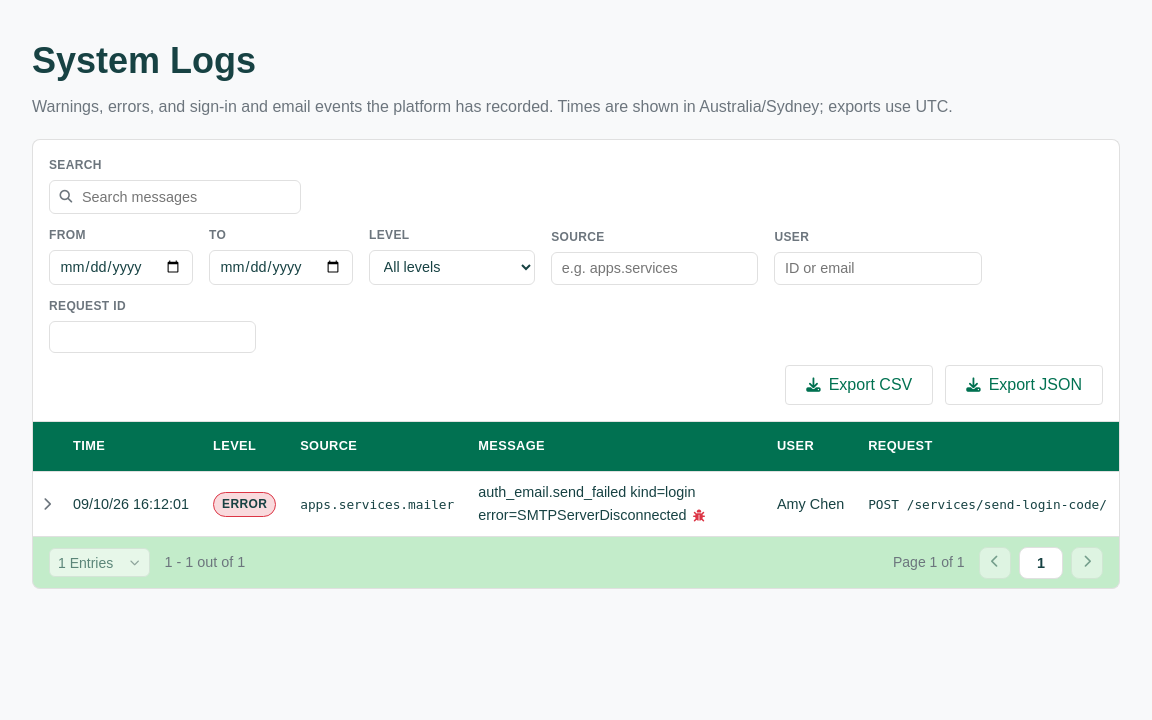
AdminSystemLogsPage › says when a date’s year is out of range, without asking the server
The width and height of the screenshot is (1152, 720).
Type "0002-10-15" into the date field with id "log-from-filter" at (121, 267), box [49,250,193,285]
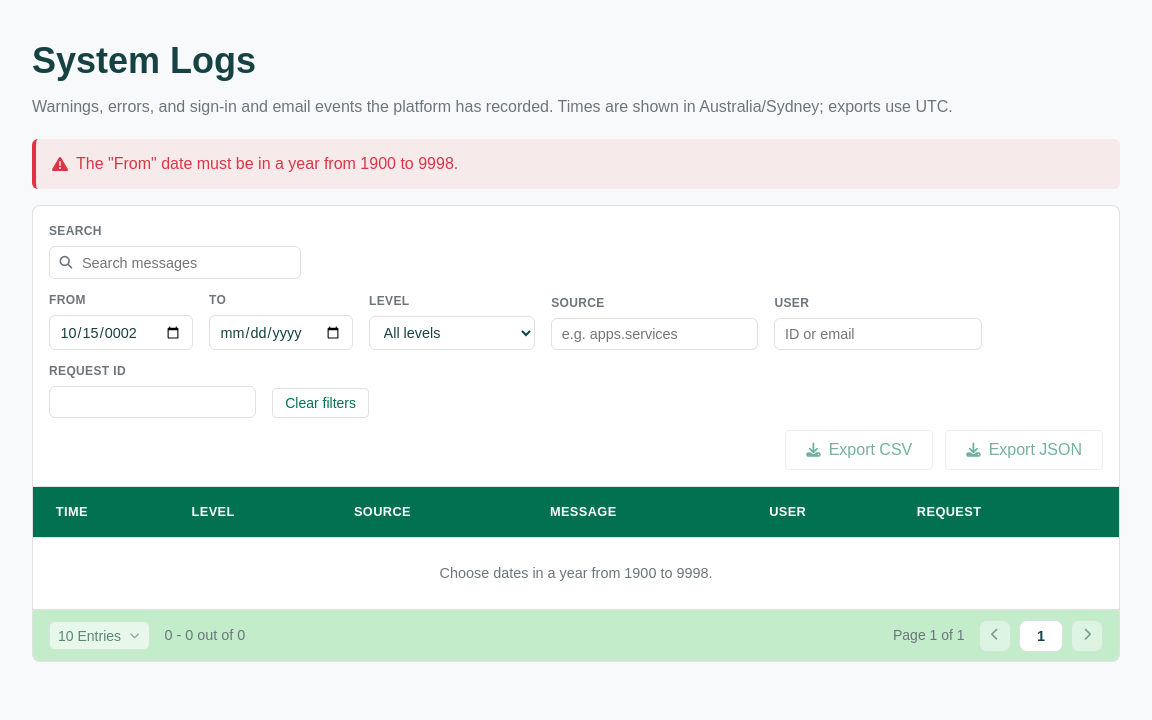
Expected: the message "The \"From\" date must be in a year from 1900 to 9998." reads "The \"From\" date must be in a year from 1900 to 9998.", [76,155,458,172]
Expected: the cell with class "data-table-empty" reads "Choose dates in a year from 1900 to 9998.", [440,565,712,581]
Expected: the button "Export CSV" is disabled, [785,430,933,470]
Type "0020-10-15" into the date field with id "log-from-filter" at (121, 333), box [49,315,193,350]
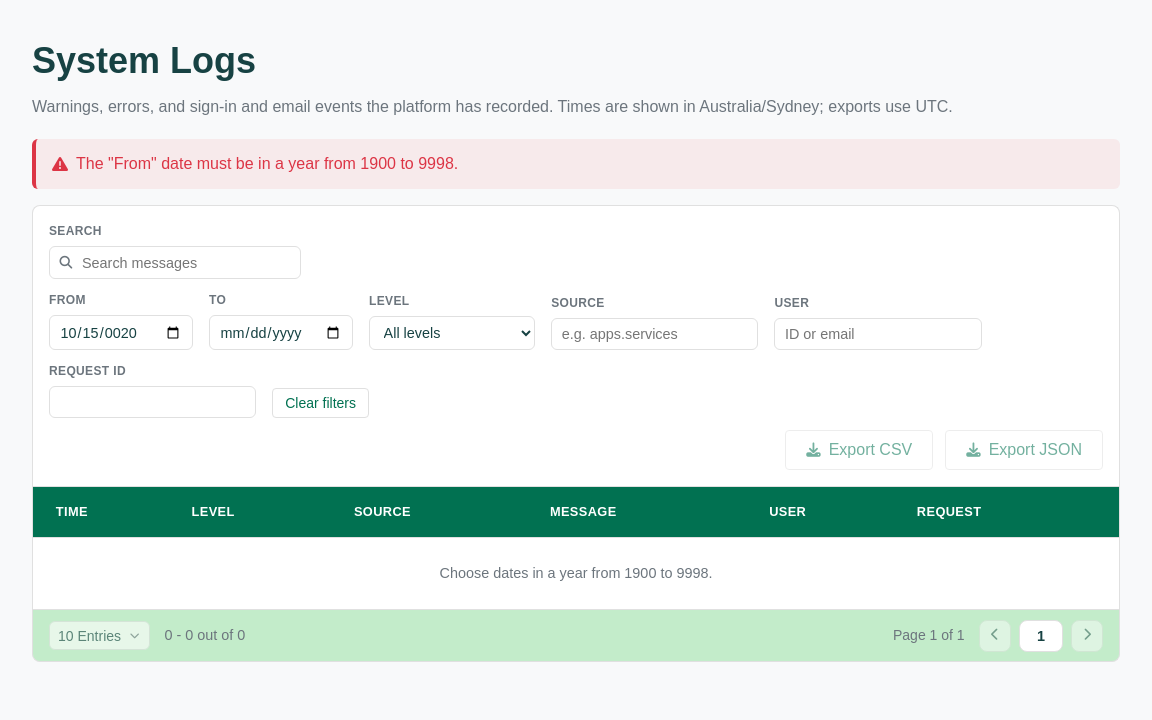
Expected: the message "The \"From\" date must be in a year from 1900 to 9998." reads "The \"From\" date must be in a year from 1900 to 9998.", [76,155,458,172]
Expected: the cell with class "data-table-empty" reads "Choose dates in a year from 1900 to 9998.", [440,565,712,581]
Expected: the button "Export CSV" is disabled, [785,430,933,470]
Type "0202-10-15" into the date field with id "log-from-filter" at (121, 333), box [49,315,193,350]
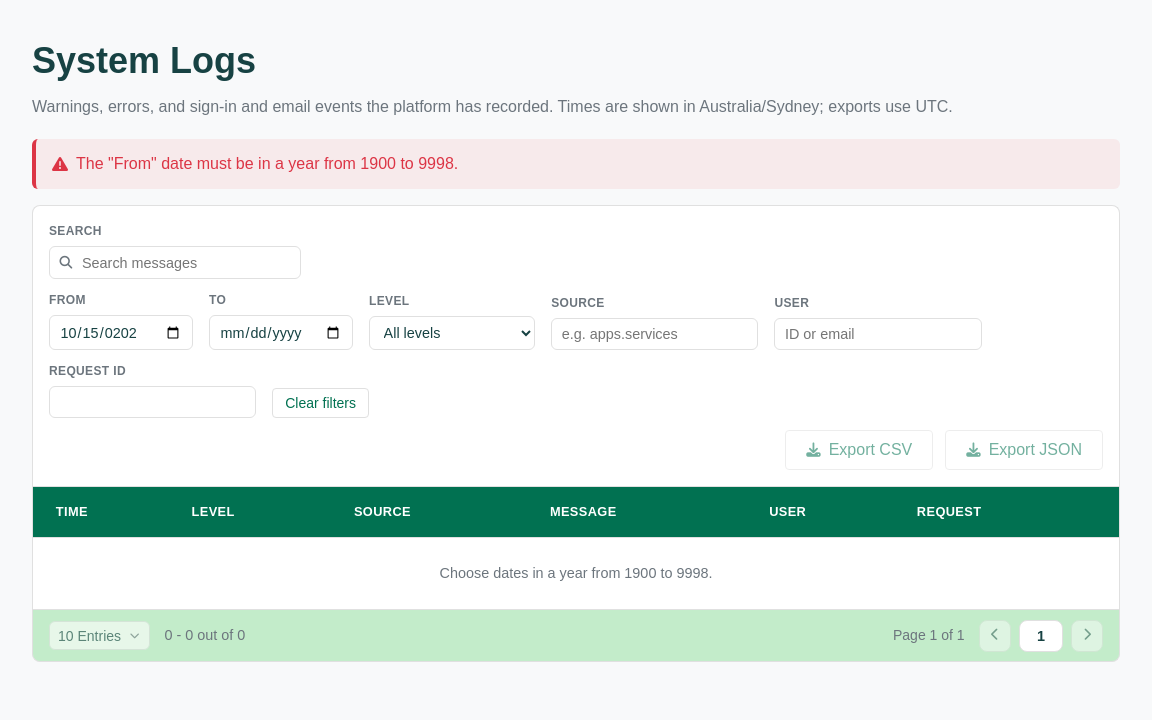
Expected: the message "The \"From\" date must be in a year from 1900 to 9998." reads "The \"From\" date must be in a year from 1900 to 9998.", [76,155,458,172]
Expected: the cell with class "data-table-empty" reads "Choose dates in a year from 1900 to 9998.", [440,565,712,581]
Expected: the button "Export CSV" is disabled, [785,430,933,470]
Type "2026-10-15" into the date field with id "log-from-filter" at (121, 333), box [49,315,193,350]
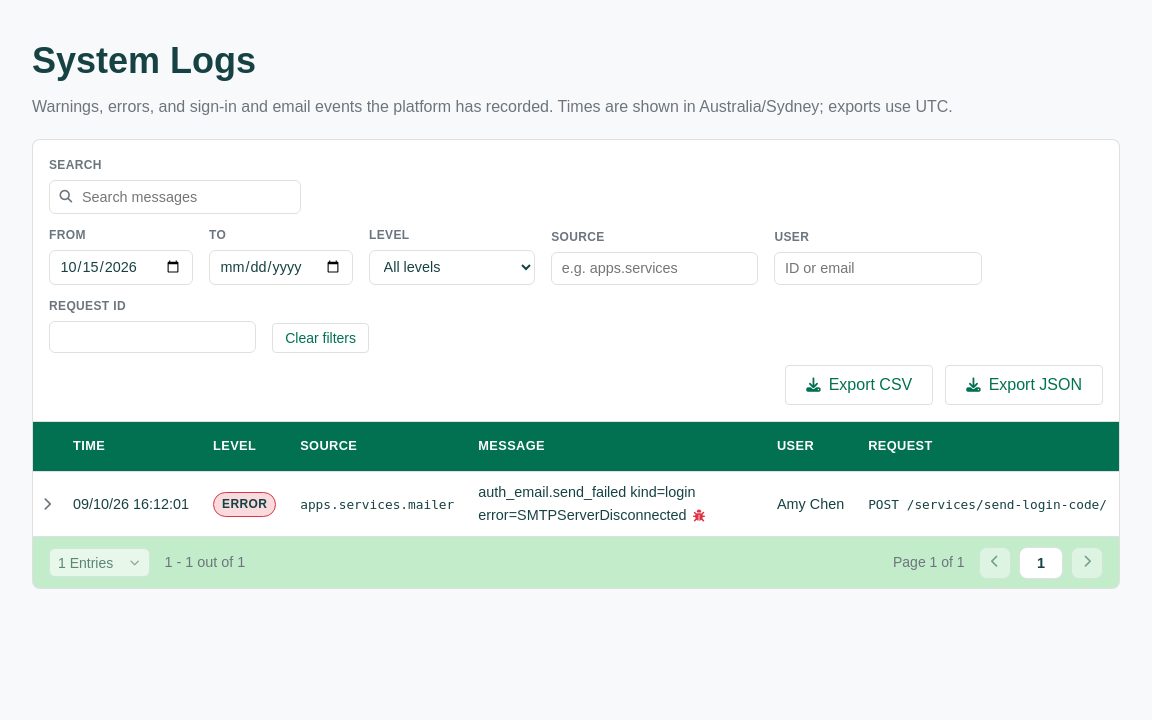
Expected: the button "Export CSV" is enabled, [785,365,933,405]
